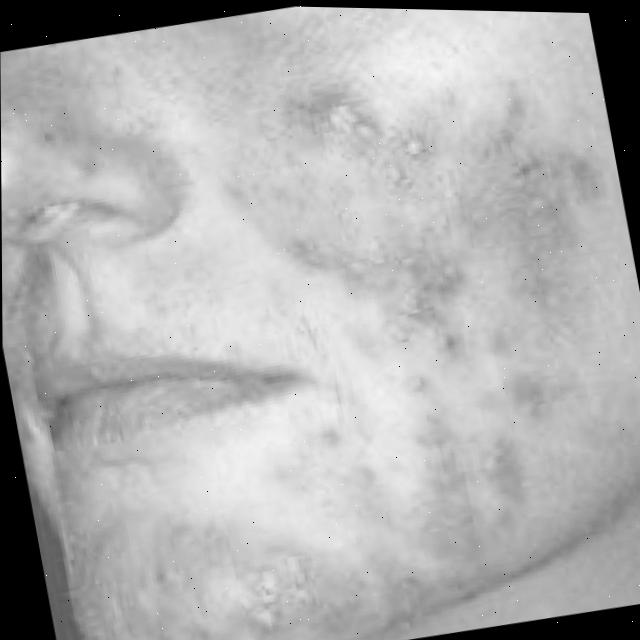Rosacea: (261, 51, 640, 524), (87, 499, 321, 640), (0, 48, 106, 179)
